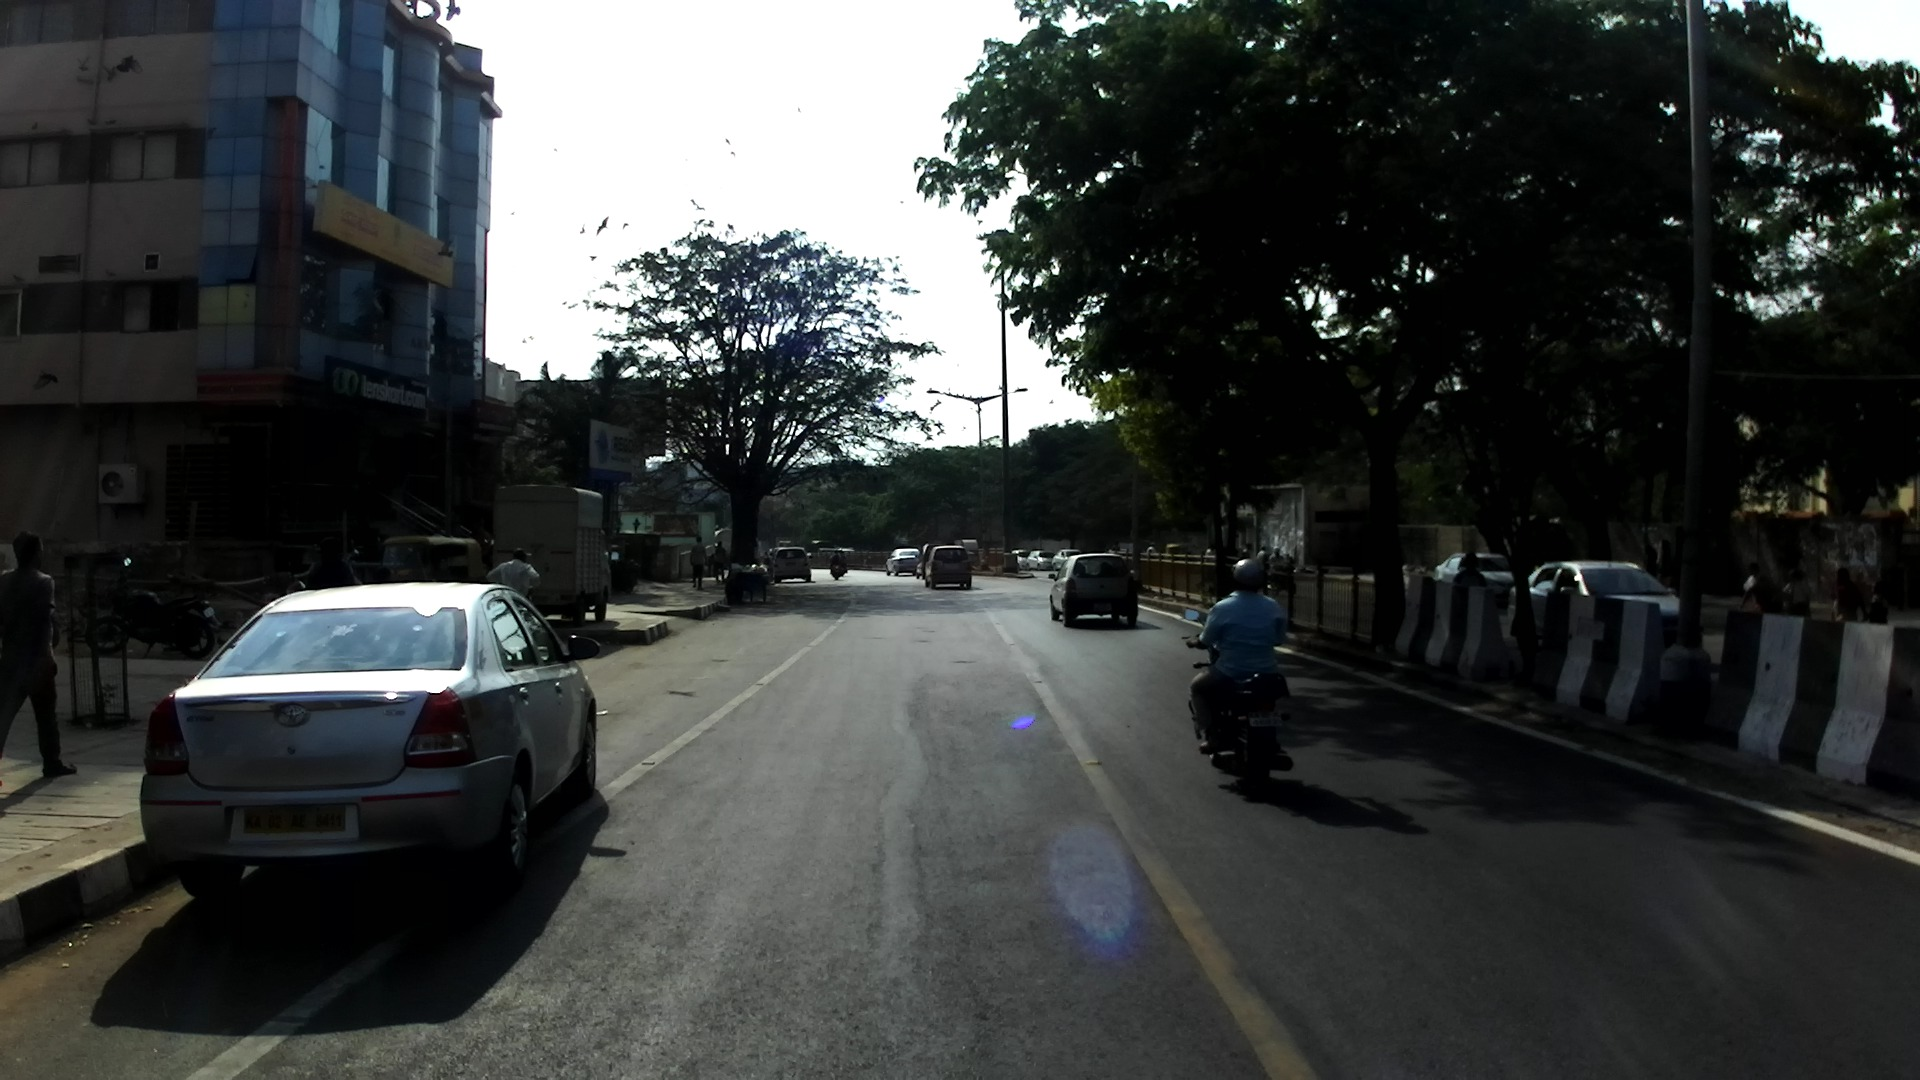autorickshaw: (382, 534, 486, 606), (1166, 544, 1187, 560)
car: (139, 580, 600, 907), (1507, 558, 1704, 669), (1047, 552, 1139, 628), (1435, 552, 1521, 607), (925, 545, 973, 591), (916, 543, 961, 580), (772, 547, 812, 585), (885, 548, 923, 577), (765, 549, 792, 578), (1052, 549, 1085, 572), (1026, 550, 1059, 571), (1009, 549, 1033, 569), (835, 546, 855, 557)
motorcycle: (1182, 606, 1294, 796), (87, 555, 220, 664), (608, 558, 640, 595), (1268, 565, 1296, 596), (830, 564, 844, 580), (838, 562, 848, 577)
person: (1, 529, 78, 785), (486, 546, 542, 618), (1832, 567, 1867, 634), (1739, 569, 1787, 618), (1778, 568, 1812, 626), (1454, 550, 1487, 594), (1863, 579, 1888, 630), (1743, 561, 1769, 606), (690, 535, 707, 592), (1256, 544, 1269, 595), (714, 541, 727, 584), (1242, 543, 1254, 563), (1205, 544, 1219, 560), (1147, 542, 1157, 557)
rider: (1185, 554, 1287, 756), (1267, 546, 1291, 585), (830, 551, 844, 573), (839, 551, 848, 574)
truck: (494, 484, 620, 627), (954, 539, 979, 557)
vehicle fallback: (726, 563, 768, 605), (811, 540, 836, 558), (773, 538, 792, 554)
